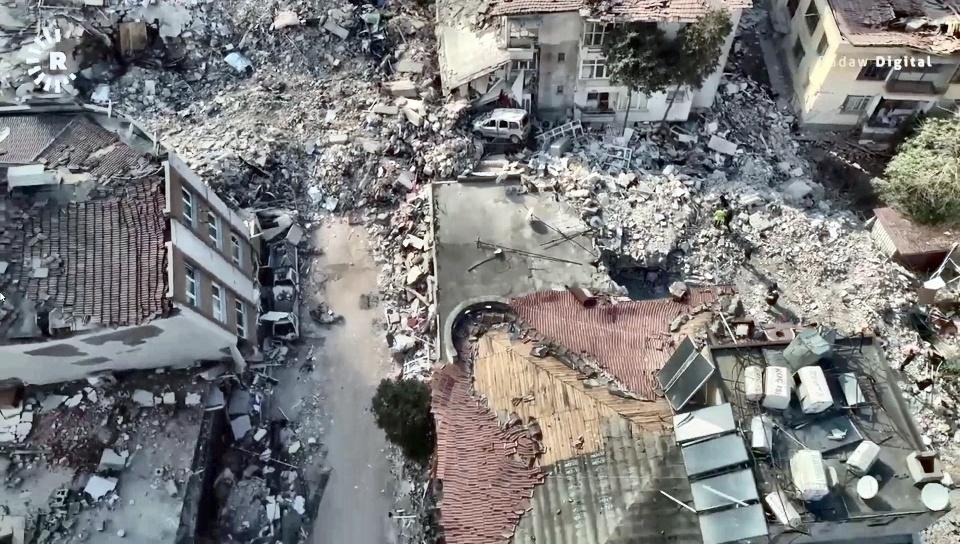kapali: (293, 1, 436, 336)
